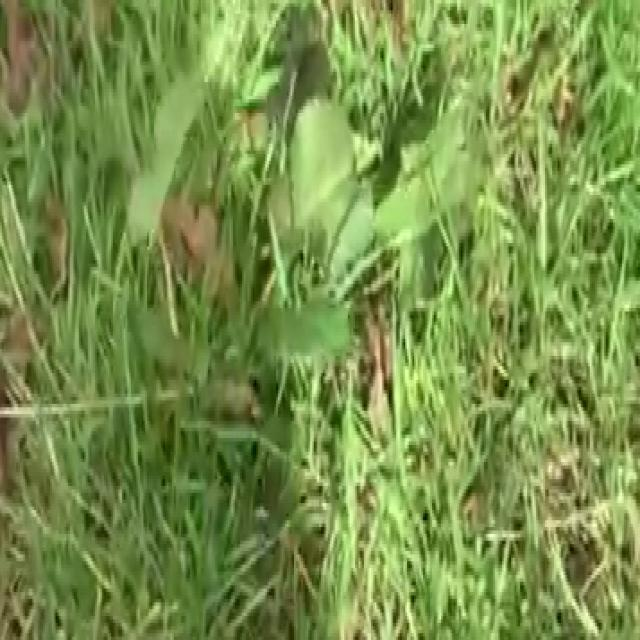organic waste: (159, 17, 522, 490)
